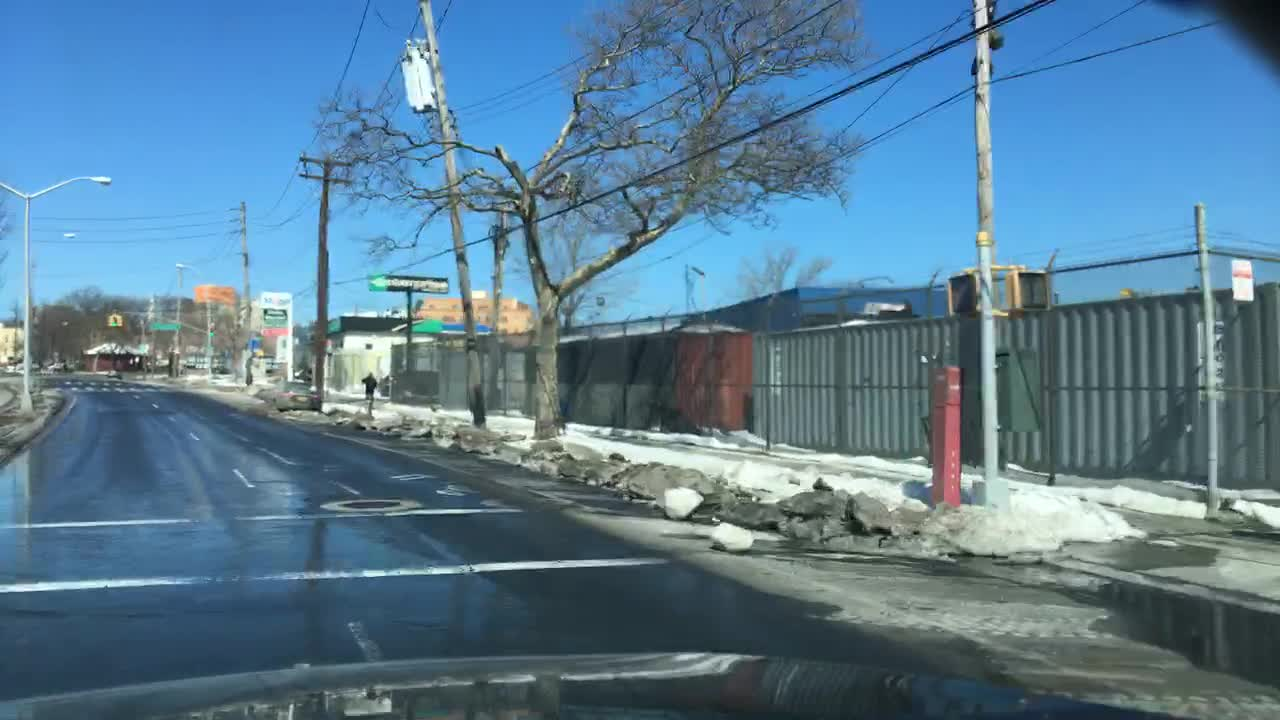bike: (358, 381, 380, 410)
car: (277, 379, 322, 411), (214, 365, 232, 377), (106, 369, 124, 380)
rider: (359, 369, 377, 400)
traffic light: (1006, 267, 1051, 311), (945, 275, 980, 312), (207, 321, 215, 335), (105, 312, 113, 325), (114, 312, 121, 326), (112, 313, 116, 324)
traffic sign: (149, 321, 185, 330)
